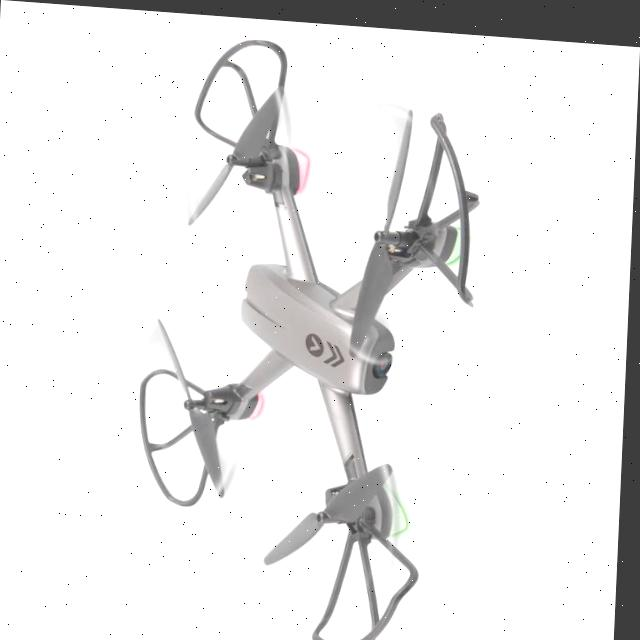drone: (0, 1, 640, 640)
